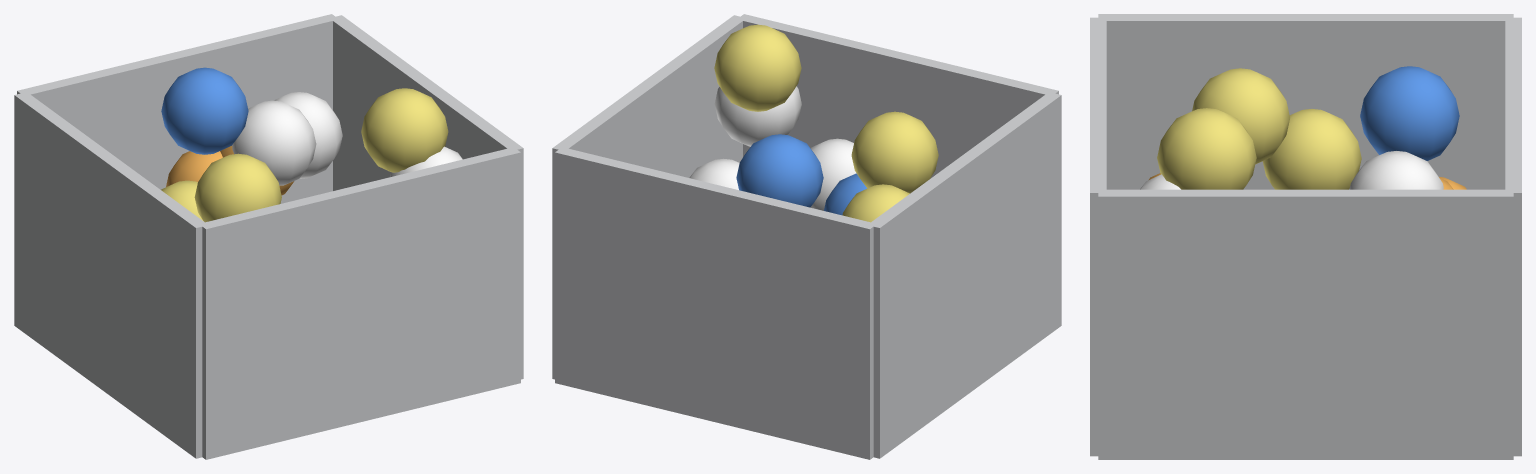
Rendered from ball_bin.glb.
The picture shows the model from 3 angles, left to right: view 1: azimuth 30°, elevation 25°; view 2: azimuth 150°, elevation 25°; view 3: azimuth 270°, elevation 25°; orthographic projection. The views are drawn at different scales.
Parts seen in each view (by area): view 1: ball_bin; view 2: ball_bin; view 3: ball_bin.
Part boxes in pixels (<box>): ball_bin: <box>14,14,523,459</box>; ball_bin: <box>552,14,1061,459</box>; ball_bin: <box>1090,14,1521,459</box>.
Size of the model in its own units: 1.04 by 0.8171 by 1.04.
